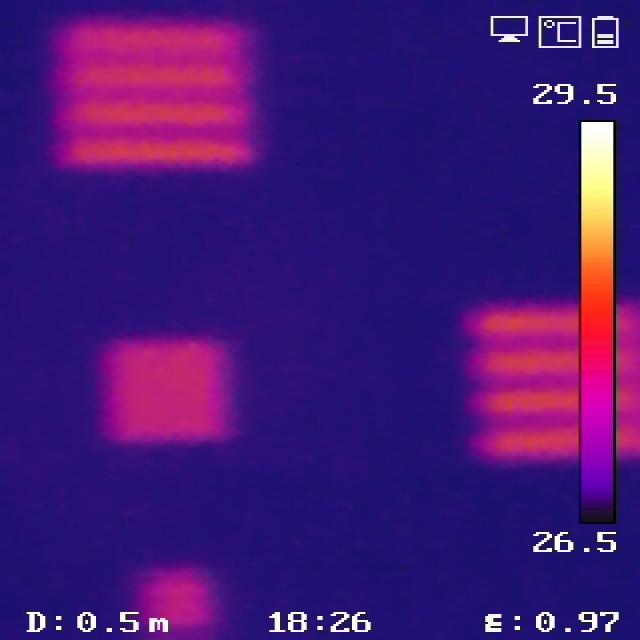Indistinguishable 4-bar target: (104, 339, 224, 446), (140, 573, 207, 628)
threshold 4-bar target: (62, 17, 254, 165), (461, 301, 640, 459)
